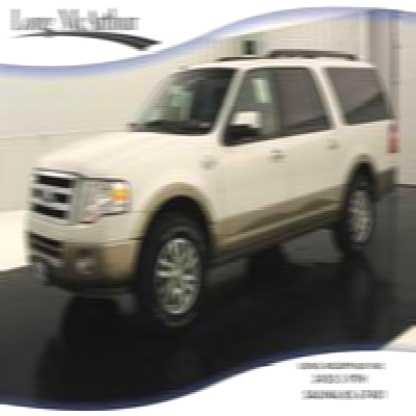Vehicle: (25, 46, 405, 339)
